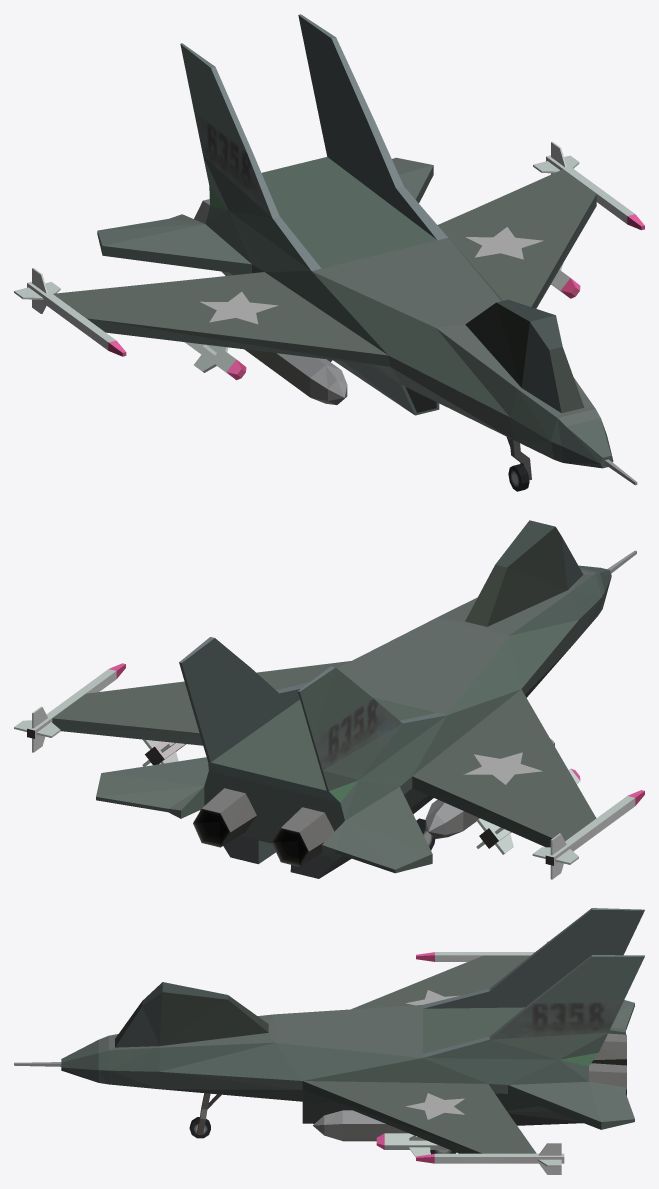
The model's file is Fighter_Jet_Big02.fbx.
3 views of the same model, one above another, from view 1: azimuth 30°, elevation 25°; view 2: azimuth 150°, elevation 25°; view 3: azimuth 270°, elevation 25° (orthographic). The views are drawn at different scales.
Parts seen in each view (by area): view 1: Fighter_Jet_Big02; view 2: Fighter_Jet_Big02; view 3: Fighter_Jet_Big02.
Boxes of the visible parts, x1,y1,x2,y2 form: Fighter_Jet_Big02: [14, 14, 644, 491]; Fighter_Jet_Big02: [14, 520, 644, 879]; Fighter_Jet_Big02: [14, 908, 644, 1174].
Bounding box in the file's own units: 18.47 × 8.15 × 22.78.
